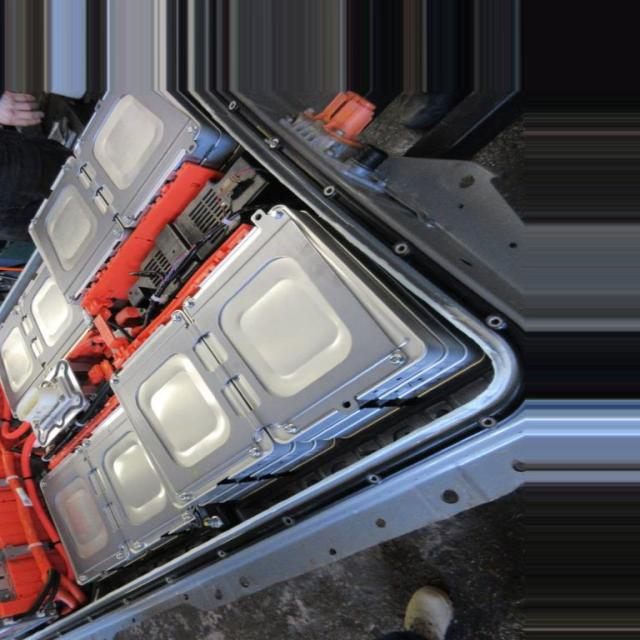Battery Module: (193, 231, 394, 422), (32, 82, 186, 285), (121, 333, 251, 482), (56, 416, 170, 561), (3, 275, 71, 395)
Bolt: (170, 484, 198, 503), (179, 296, 205, 312), (281, 422, 304, 438), (18, 217, 45, 230), (265, 206, 288, 221), (124, 538, 151, 550), (168, 310, 188, 326), (59, 290, 79, 306), (245, 446, 267, 460), (181, 124, 200, 140), (105, 378, 129, 390), (176, 510, 198, 523), (35, 480, 55, 493), (388, 354, 409, 366), (73, 572, 94, 584), (86, 98, 107, 110), (58, 162, 74, 177), (116, 215, 137, 226), (108, 225, 124, 238), (112, 549, 128, 561), (8, 305, 24, 317), (84, 437, 95, 448), (76, 445, 84, 455)
Bus-bar: (94, 314, 118, 348)
Cable: (2, 425, 82, 606)
Nut: (254, 135, 282, 150)
Screw: (386, 234, 414, 256), (270, 514, 304, 527), (485, 312, 505, 334), (475, 414, 500, 431), (320, 183, 339, 200), (160, 571, 176, 587), (222, 97, 240, 111), (213, 546, 231, 560), (367, 474, 383, 487)
